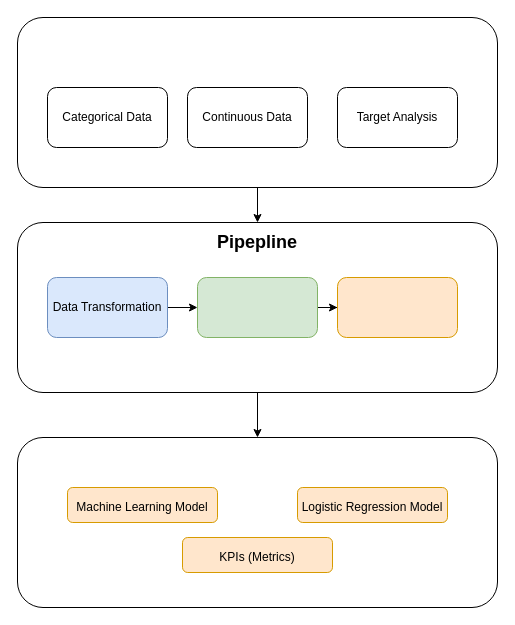
This 515x625 diagram has some shape labels left out. Each missing label, with the box of its shape:
Descriptive Analysis: (16, 16, 498, 188)
Missing Treatment: (196, 276, 318, 338)
Model Training: (16, 436, 498, 608)
Outlier Treatment: (336, 276, 458, 338)
